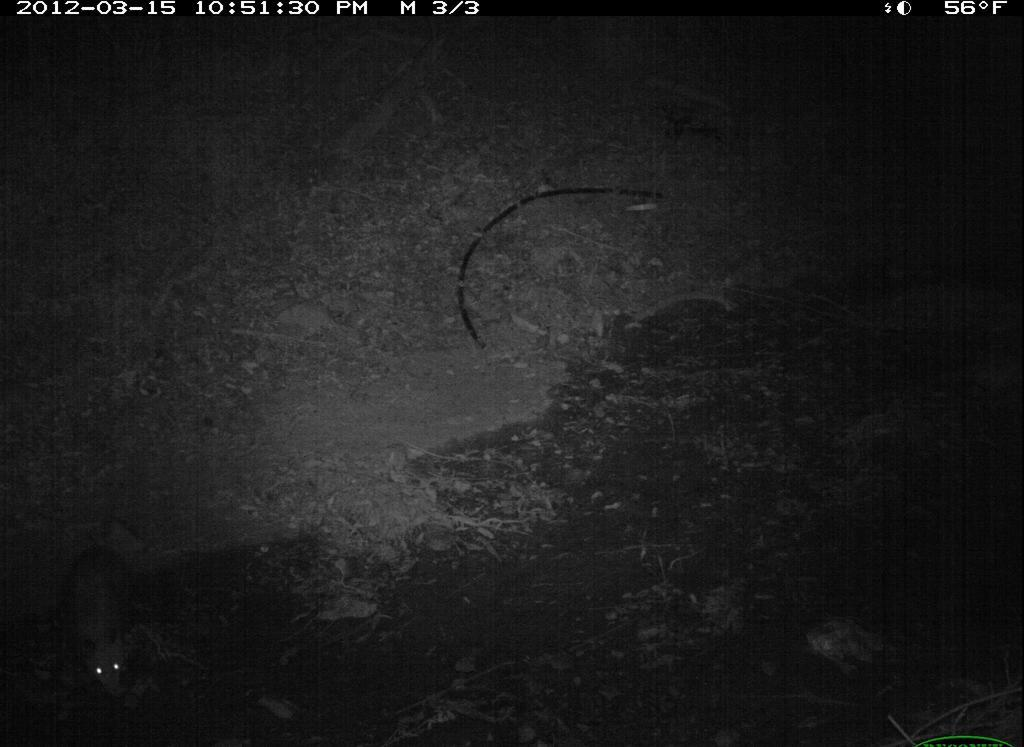opossum: (47, 538, 173, 698)
